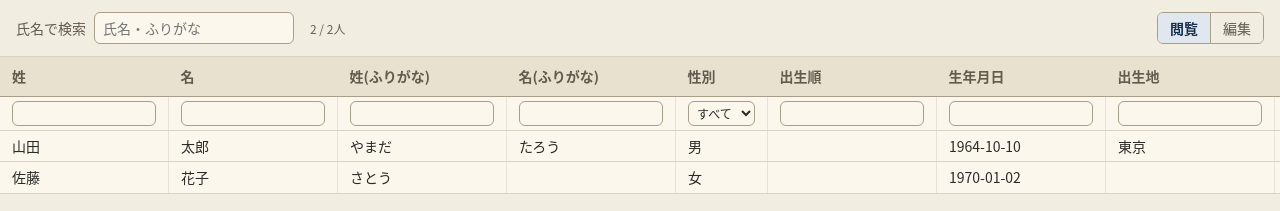
it: PersonTableView: 列ごとの絞り込み(spec「列ごとの絞り込みと横断検索」) › 絞り込みが有効なときだけ解除ボタンが出て、押すと全件に戻る
Expected: the button "絞り込みを解除" is not shown
Type "山田" into the search field named "姓で絞り込み".
click(84, 113); type("山田")  # box [12,101,156,126]
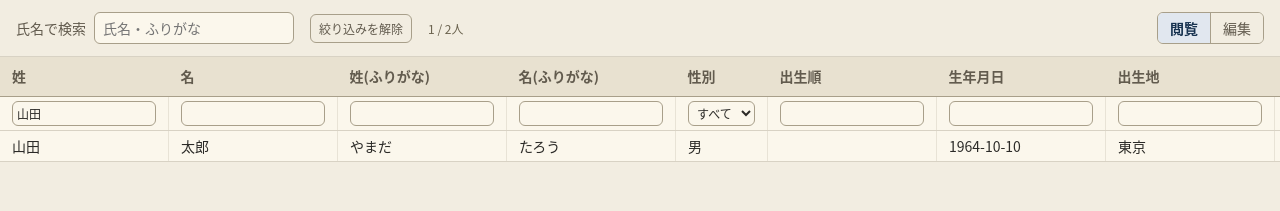
Type "やまだ" into the search field labelled "氏名で検索".
click(194, 28); type("やまだ")  # box [94,12,294,44]
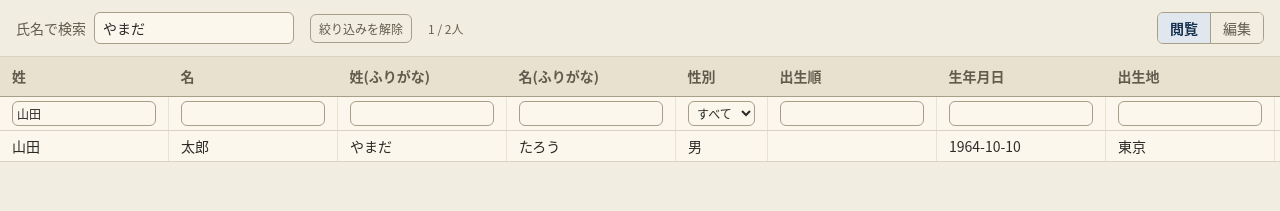
Click the button "絞り込みを解除".
click(361, 28)  # box [310,14,412,43]
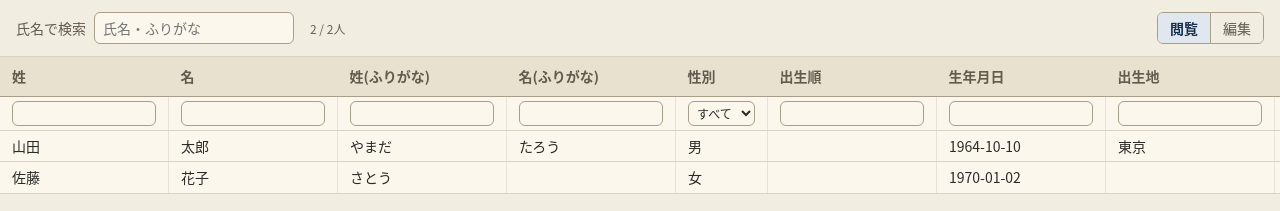
Expected: the button "絞り込みを解除" is gone
